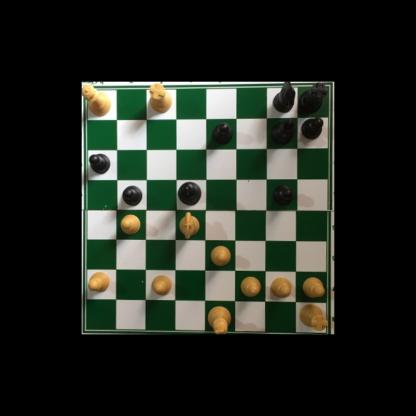black-bishop: (268, 117, 294, 145)
black-king: (177, 180, 203, 207)
black-knight: (271, 82, 297, 114)
black-pawn: (300, 116, 324, 139), (211, 121, 233, 146), (120, 184, 143, 207), (87, 153, 111, 175), (271, 185, 293, 206)
black-rook: (297, 82, 328, 116)
white-king: (204, 304, 231, 334)
white-knight: (177, 210, 201, 241)
white-pawn: (150, 272, 174, 297), (238, 275, 263, 299), (86, 269, 111, 292), (119, 211, 142, 236), (269, 275, 292, 299), (299, 274, 325, 295), (207, 244, 229, 268)
white-queen: (82, 82, 111, 116)
white-rook: (297, 302, 328, 331), (145, 82, 172, 114)
